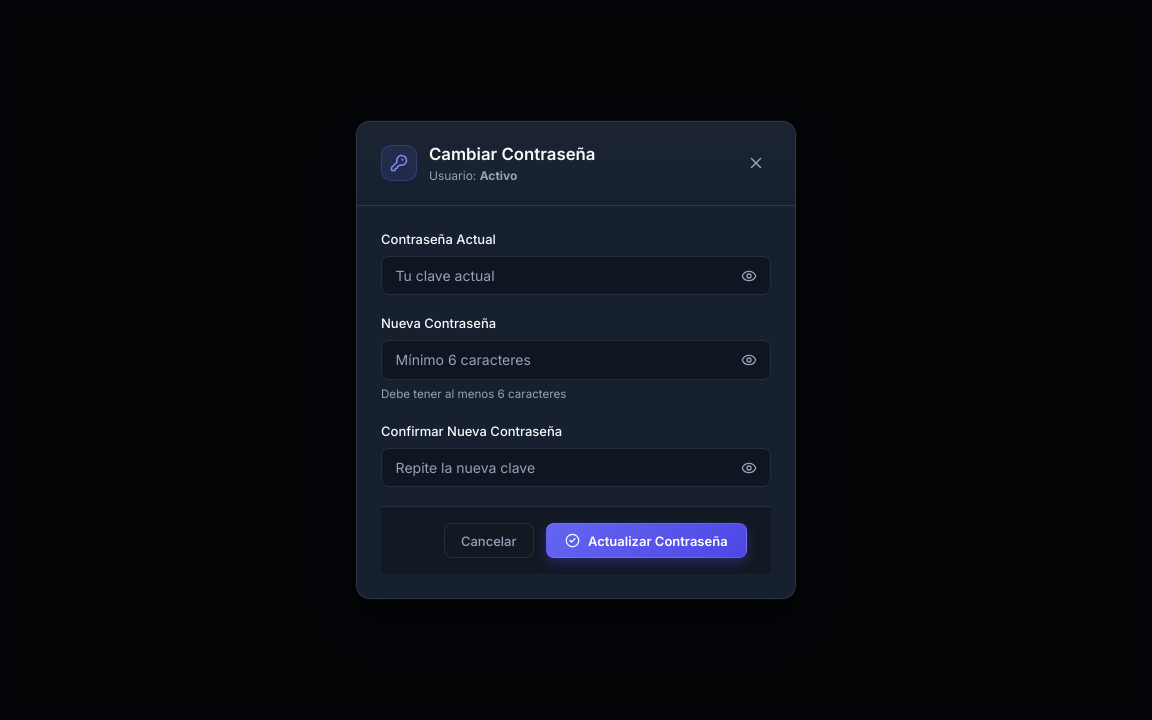
Test: ChangePasswordModal Component › shows error if current password is missing
Click the button "Actualizar Contraseña" at (646, 541), box x1=546 y1=523 x2=747 y2=558
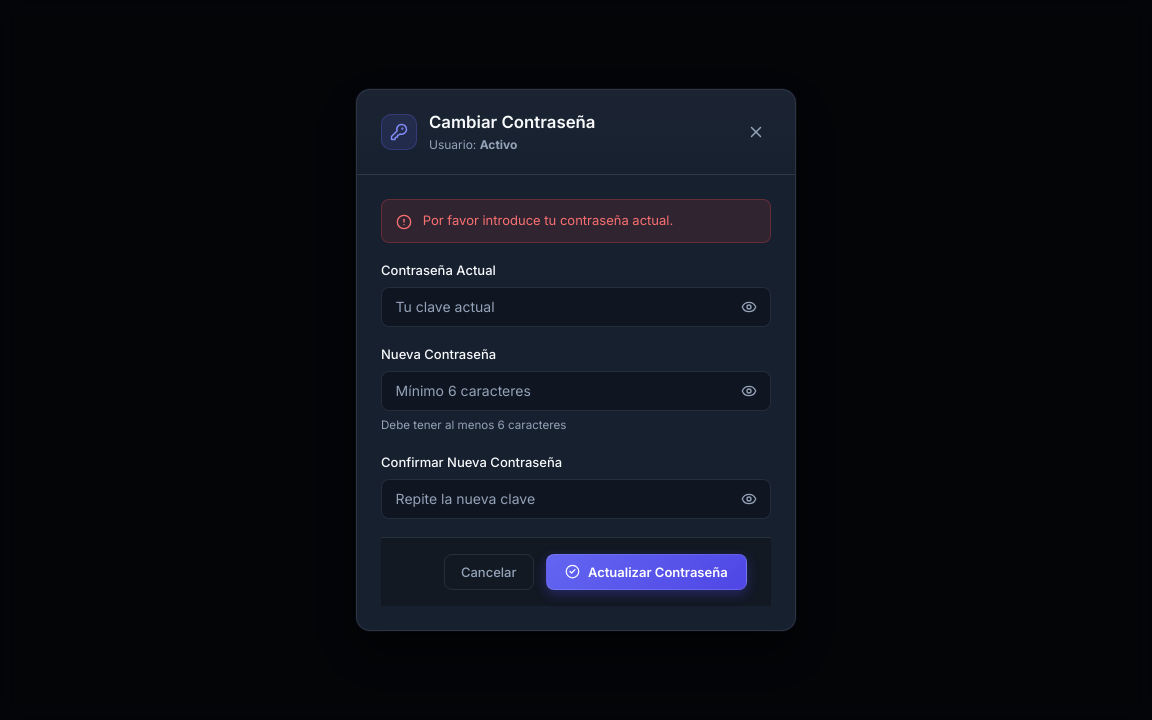
Expected: the text "Por favor introduce tu contraseña actual." is shown, x1=423 y1=212 x2=673 y2=229
